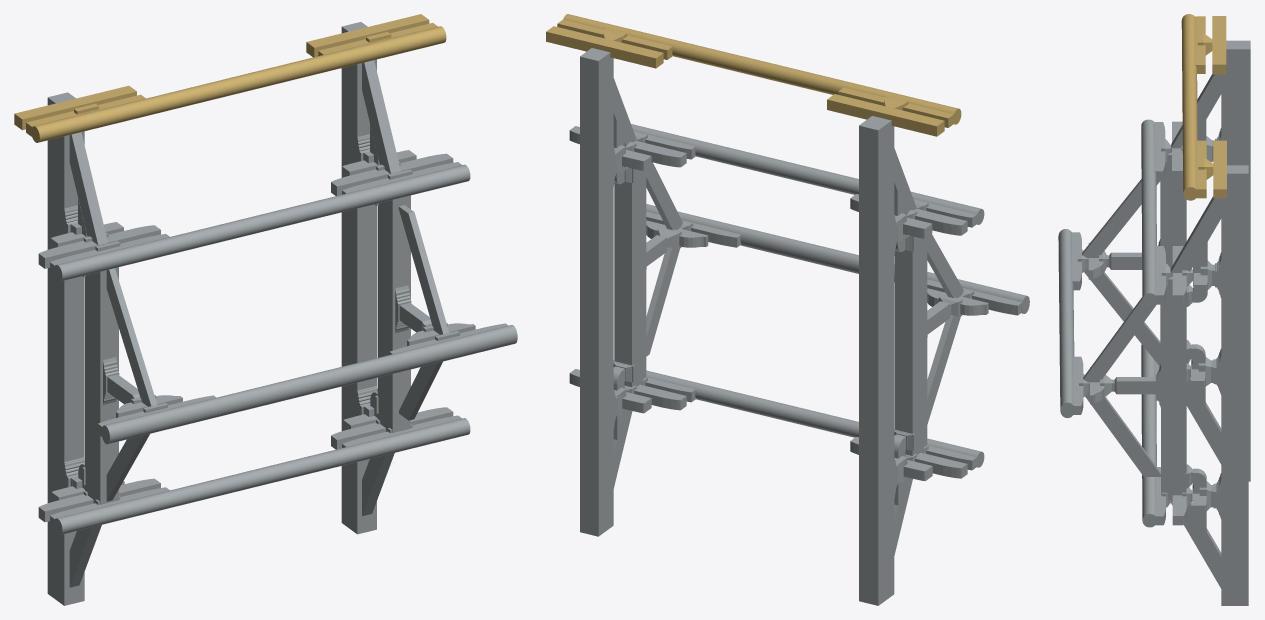
Rendered from LOWER_FRONT_EXPLORATORY_TEST_ONLY.glb.
The picture shows the model from 3 angles, left to right: view 1: azimuth 30°, elevation 25°; view 2: azimuth 150°, elevation 25°; view 3: azimuth 270°, elevation 25°; orthographic projection. The views are drawn at different scales.
Parts seen in each view (by area): view 1: west:FOUR_BEAM, east:FOUR_BEAM, RIDGE_PURLIN, UPPER_PURLIN_FRONT, UPPER_PURLIN_REAR, LOWER_PURLIN_FRONT, east:PINGLIANG, west:PINGLIANG, east:TUOJIAO_FRONT, west:TUOJIAO_FRONT, west:CHASHOU_FRONT, east:CHASHOU_FRONT (+12 smaller); view 2: west:FOUR_BEAM, east:FOUR_BEAM, west:PINGLIANG, east:PINGLIANG, LOWER_PURLIN_FRONT, UPPER_PURLIN_FRONT, UPPER_PURLIN_REAR, RIDGE_PURLIN, west:LOWER_PANJIAN, east:LOWER_PANJIAN, east:CHASHOU_REAR, west:CHASHOU_REAR (+14 smaller); view 3: east:FOUR_BEAM, east:PINGLIANG, west:FOUR_BEAM, LOWER_PURLIN_FRONT, UPPER_PURLIN_FRONT, RIDGE_PURLIN, west:PINGLIANG, UPPER_PURLIN_REAR, east:CHASHOU_FRONT, east:CHASHOU_REAR, east:TUOJIAO_FRONT, west:CHASHOU_REAR (+29 smaller).
Boxes of the visible parts, x1,y1,x2,y2 form: west:FOUR_BEAM: (47,92,84,605); east:FOUR_BEAM: (341,22,376,534); RIDGE_PURLIN: (101,325,517,444); UPPER_PURLIN_FRONT: (54,164,470,281); UPPER_PURLIN_REAR: (54,418,470,534); LOWER_PURLIN_FRONT: (31,26,446,142); east:PINGLIANG: (377,195,410,432); west:PINGLIANG: (85,267,118,504); east:TUOJIAO_FRONT: (362,60,400,173); west:TUOJIAO_FRONT: (69,132,107,245); west:CHASHOU_FRONT: (106,268,157,406); east:CHASHOU_FRONT: (398,205,449,334); west:FOUR_BEAM: (859,116,894,605); east:FOUR_BEAM: (580,48,613,536); west:PINGLIANG: (894,237,927,455); east:PINGLIANG: (614,169,646,387); LOWER_PURLIN_FRONT: (563,14,961,124); UPPER_PURLIN_FRONT: (631,124,984,224); UPPER_PURLIN_REAR: (646,370,984,467); RIDGE_PURLIN: (646,204,1029,313); west:LOWER_PANJIAN: (827,94,944,136); east:LOWER_PANJIAN: (546,26,663,68); east:CHASHOU_REAR: (646,247,679,356); west:CHASHOU_REAR: (927,314,960,424); east:FOUR_BEAM: (1221,165,1248,605); east:PINGLIANG: (1161,277,1186,499); west:FOUR_BEAM: (1221,40,1250,481); LOWER_PURLIN_FRONT: (1181,14,1197,200); UPPER_PURLIN_FRONT: (1141,119,1156,306); RIDGE_PURLIN: (1058,229,1074,418); west:PINGLIANG: (1160,152,1186,364); UPPER_PURLIN_REAR: (1141,344,1156,527); east:CHASHOU_FRONT: (1083,297,1156,382); east:CHASHOU_REAR: (1085,391,1160,476); east:TUOJIAO_FRONT: (1170,196,1221,272); west:CHASHOU_REAR: (1084,267,1160,366).
Bounding box in the file's own units: 6198 × 7312 × 2896.
